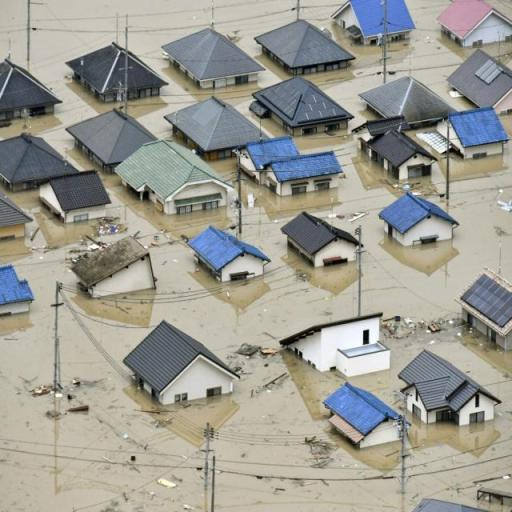flood: (0, 115, 512, 512), (0, 0, 512, 172)
house: (116, 322, 240, 406), (120, 136, 230, 216), (398, 348, 502, 428), (250, 74, 368, 132), (281, 310, 385, 372), (66, 106, 160, 172), (67, 42, 169, 102), (164, 26, 260, 88), (167, 96, 262, 158), (71, 235, 157, 298), (254, 19, 352, 74), (242, 142, 340, 196), (356, 74, 451, 128), (324, 379, 400, 444), (36, 165, 114, 228), (187, 225, 269, 284), (280, 208, 360, 268), (446, 46, 512, 116), (0, 133, 79, 191), (380, 194, 456, 250), (462, 268, 510, 352), (0, 56, 58, 123), (367, 124, 438, 178), (438, 0, 510, 49), (446, 104, 507, 158), (345, 0, 413, 45), (335, 338, 392, 378), (0, 263, 37, 315), (0, 192, 35, 242)
